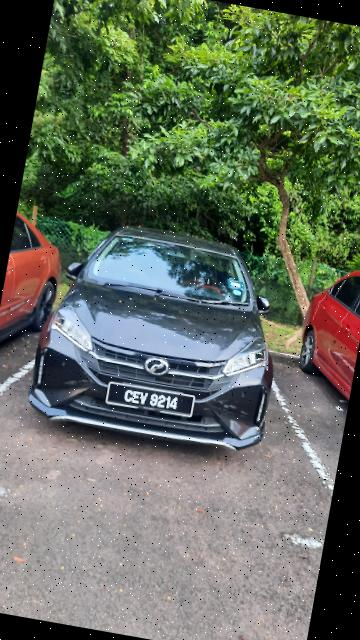License_Plate: (98, 373, 199, 424)
car: (17, 206, 297, 465)
